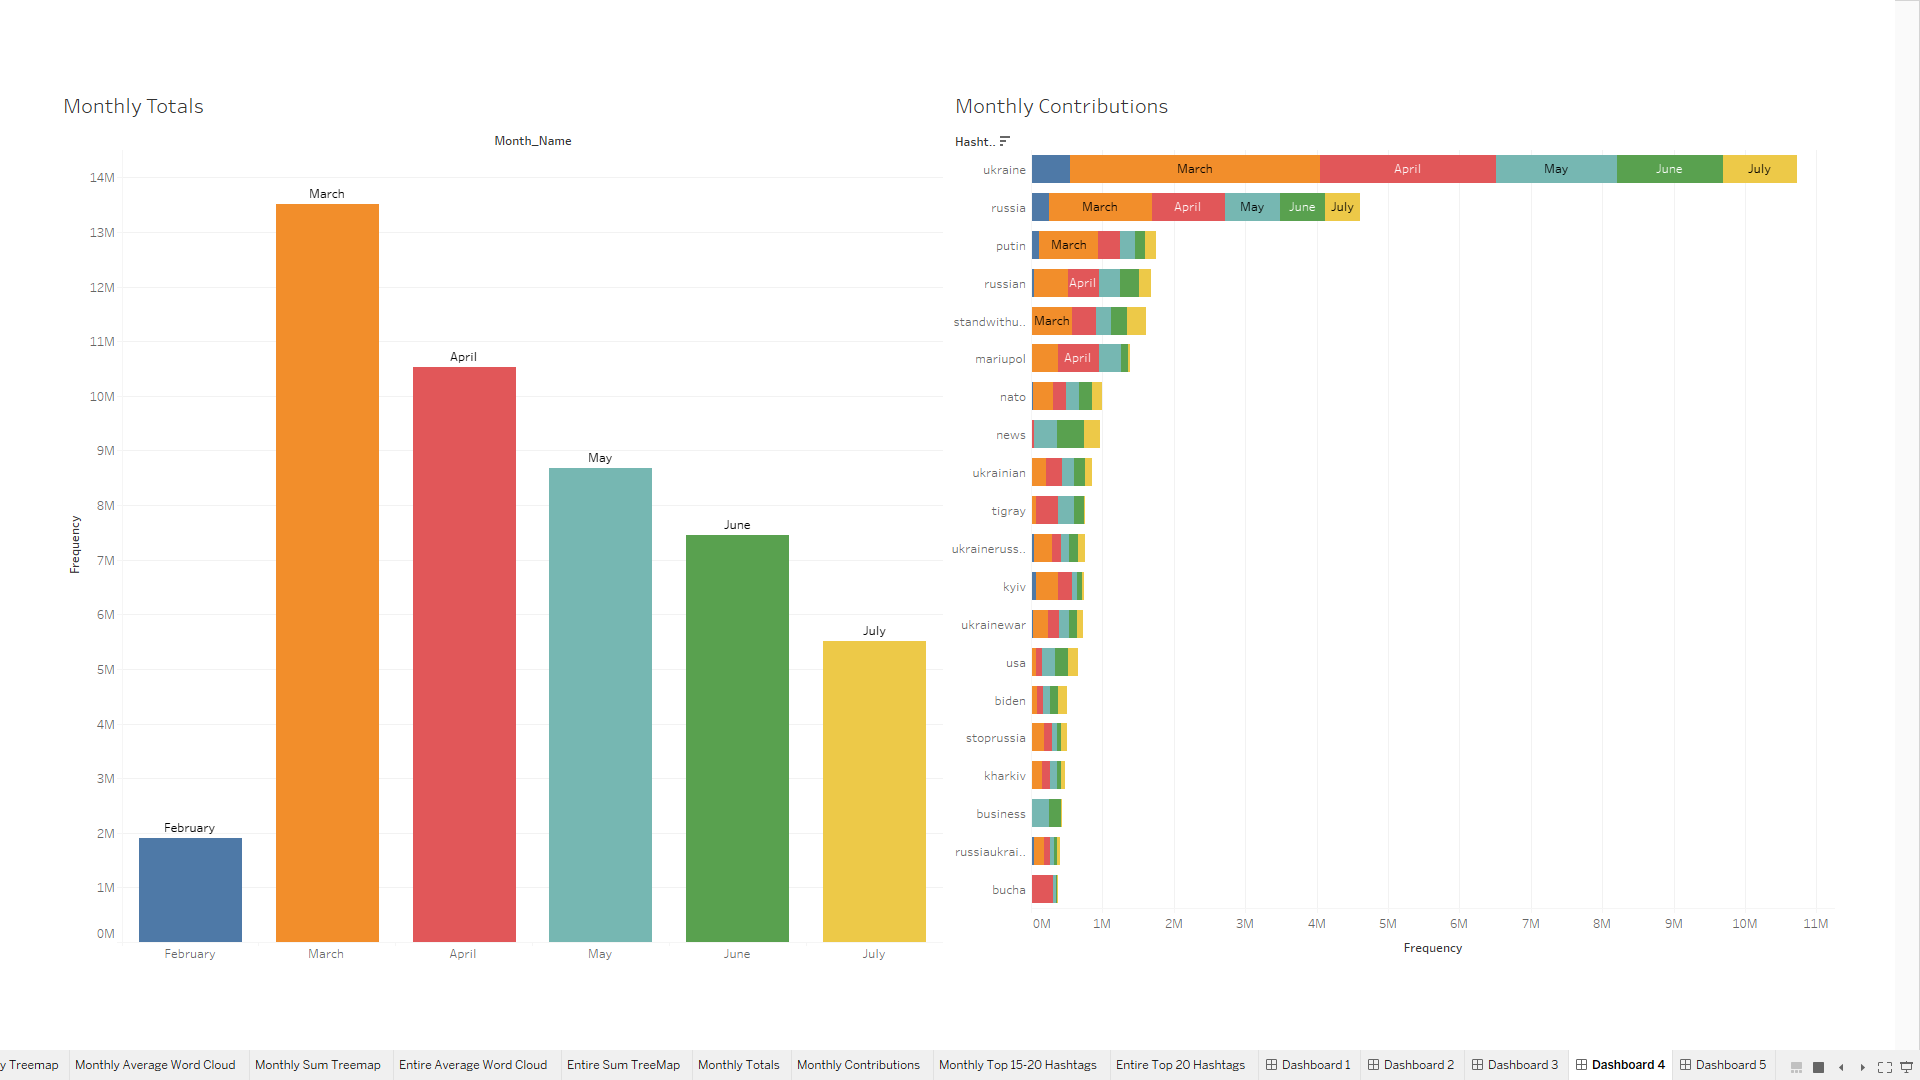

The dashboard page shown, as its layout file describes it:
{"tool":"tableau","page":{"name":"Dashboard 4","canvas":[1800,900],"ordinal":3},"visuals":[{"type":"worksheet","title":"Monthly Totals","mark":"Automatic","rows":["frequency"],"cols":["Calculation_1442559315822010370"],"box":[8,8,892,884]},{"type":"worksheet","title":"Monthly Contributions","mark":"Automatic","rows":["hashtag"],"cols":["frequency"],"box":[900,8,892,884]}]}

Visuals, with their boxes on the page's 1800x900 design canvas (x1, y1, x2, y2). These are canvas units, not pixel positions in the 1920x1080 screenshot, which may show the page scaled, cropped or inside an application window:
"Monthly Totals" worksheet: [left=8, top=8, right=900, bottom=892]
"Monthly Contributions" worksheet: [left=900, top=8, right=1792, bottom=892]
